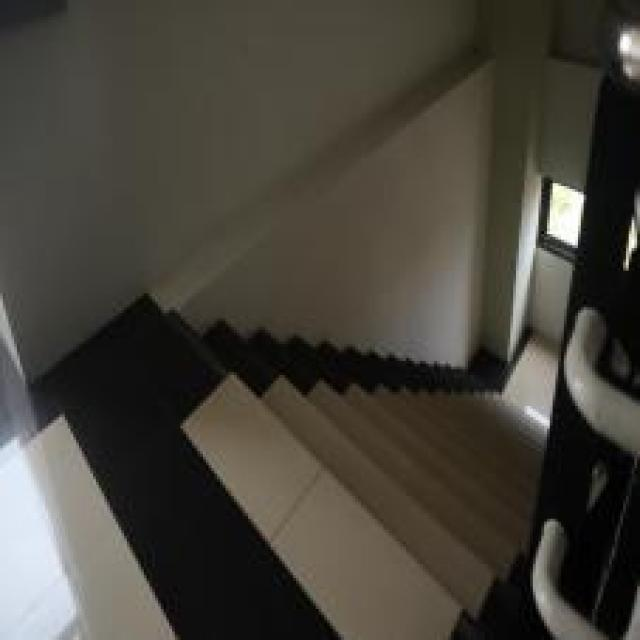downstair: (168, 345, 523, 633)
